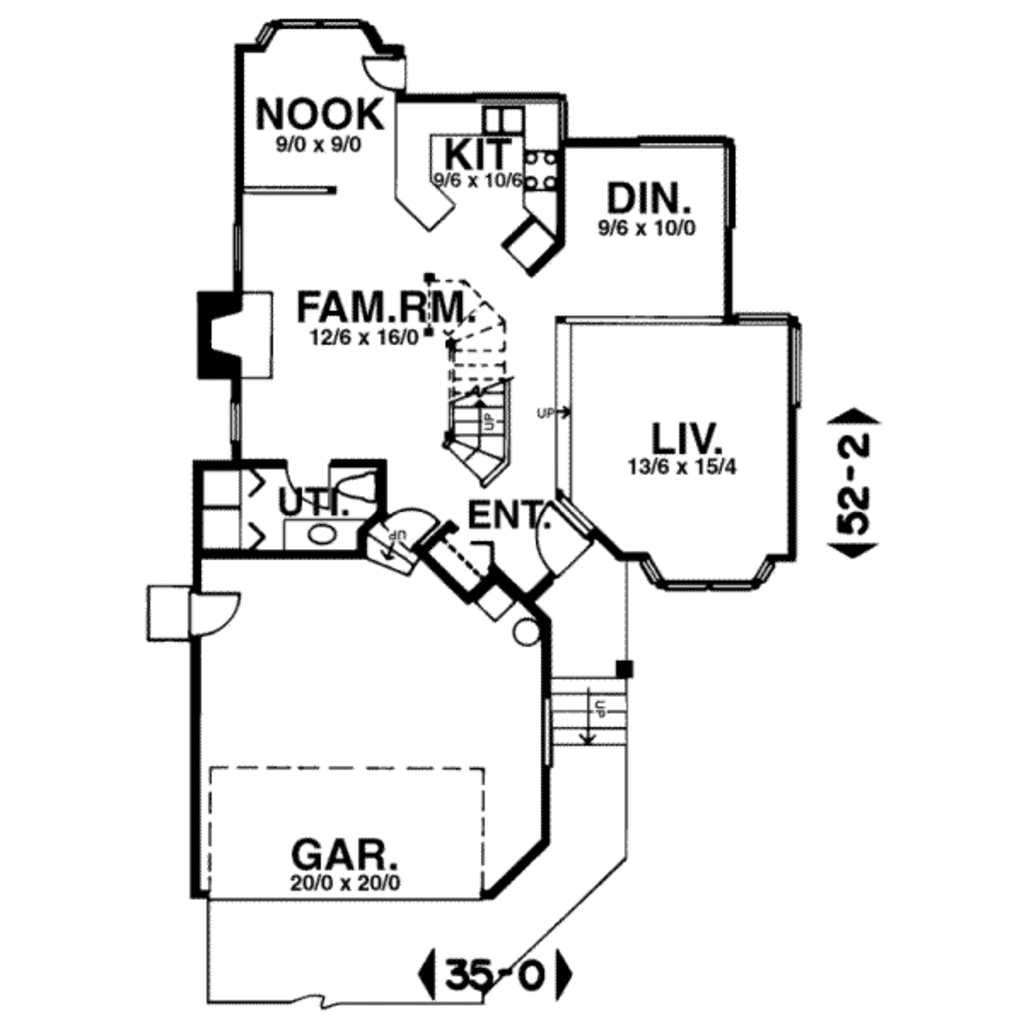door: (520, 497, 608, 578), (186, 585, 245, 646), (281, 453, 339, 514), (356, 50, 419, 100), (388, 505, 434, 564)
large_sink: (334, 469, 381, 503)
small_sink: (278, 519, 361, 550)
stairs: (398, 261, 528, 489), (538, 627, 655, 791)
twin_sink: (470, 92, 536, 141)
window: (247, 10, 378, 41), (223, 399, 256, 444)
